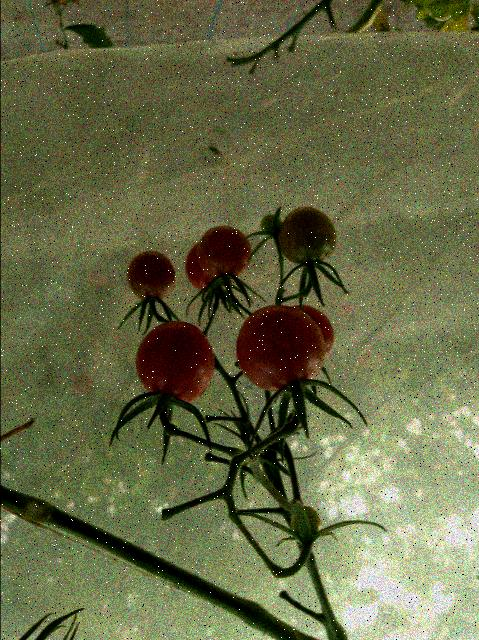l_fully_ripened: (236, 305, 326, 392), (135, 321, 214, 405), (185, 241, 233, 292), (291, 305, 334, 357)
l_green: (292, 505, 322, 541), (260, 214, 283, 235)
l_half_ripened: (279, 207, 336, 266), (197, 226, 252, 280), (127, 251, 175, 302)
